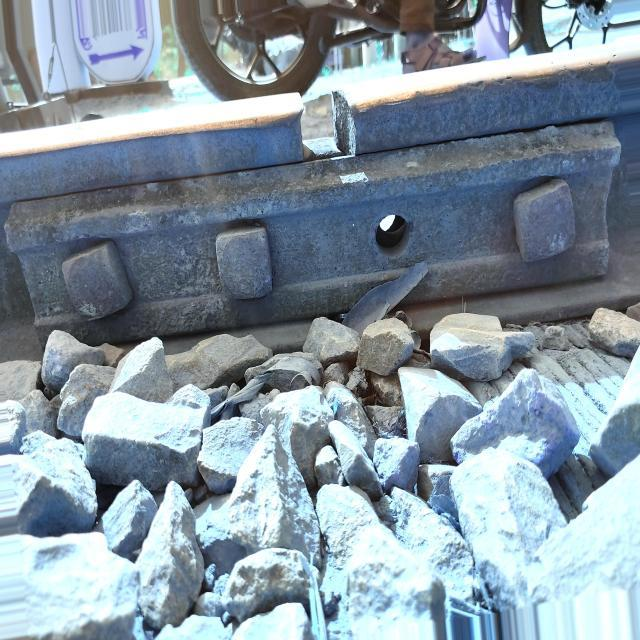Defective Joint: (0, 46, 640, 344)
